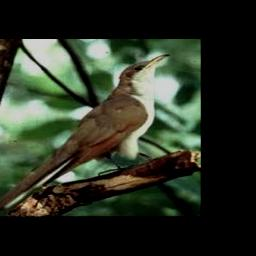Cuckoo: (0, 54, 169, 218)
